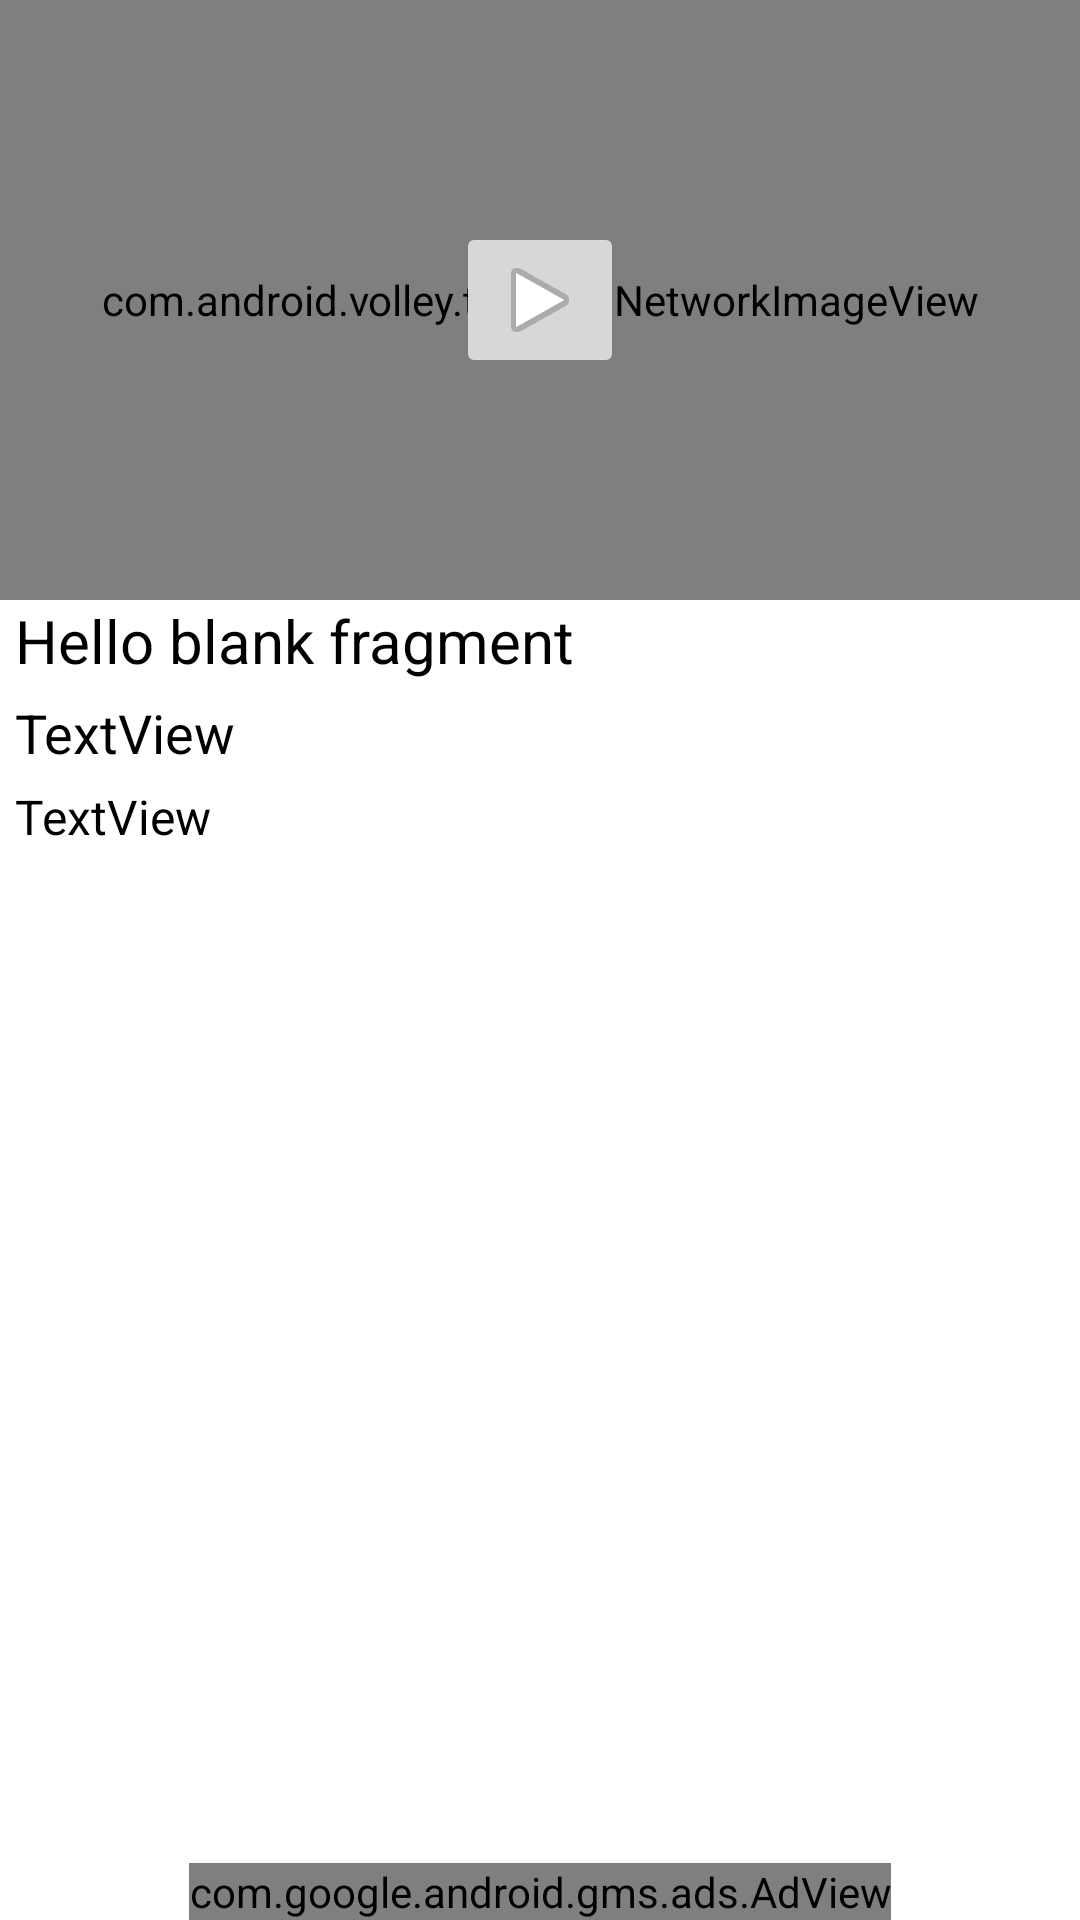

Named icons in this screenshot (1080 x 1920) and their centers, (x,y):
play: (534,300)
